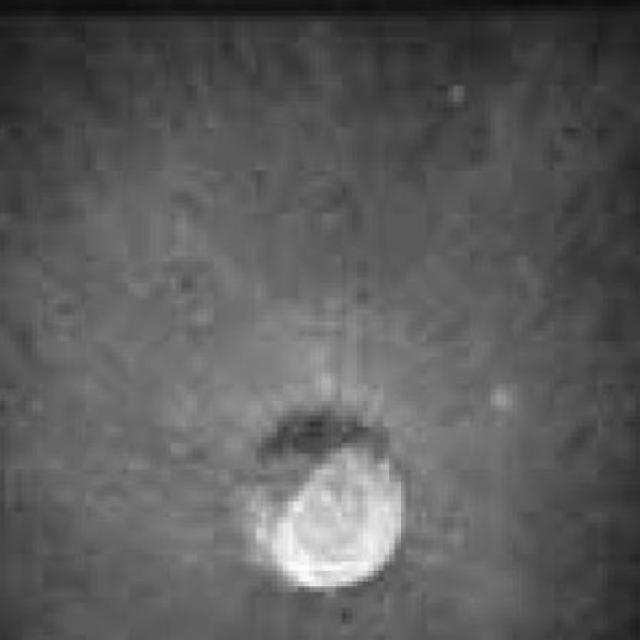crater: (263, 411, 405, 589)
